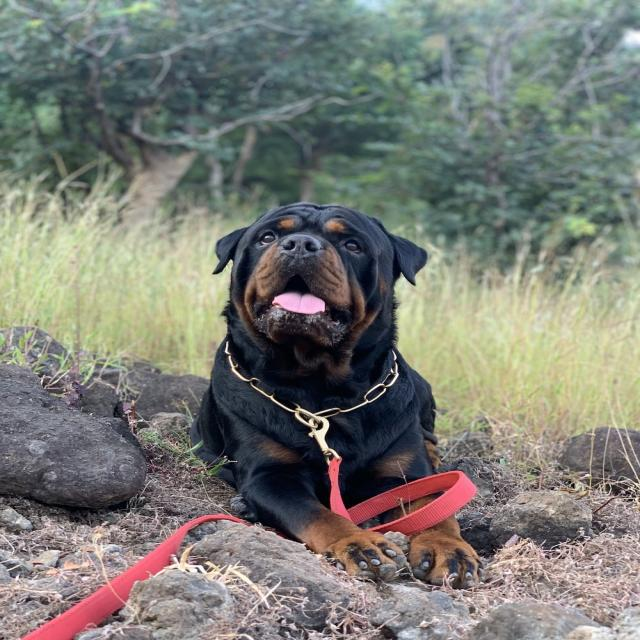rottweiler: (180, 182, 446, 376)
